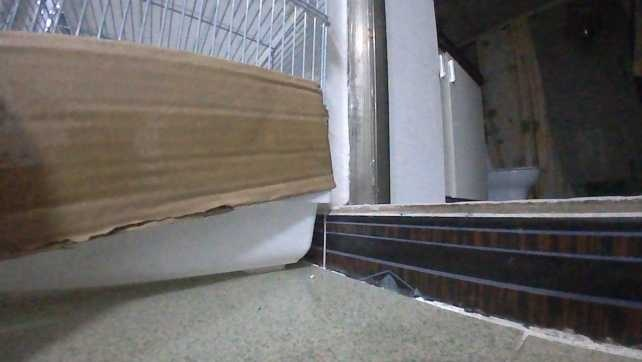door_sill: (325, 205, 642, 355)
toilet: (482, 160, 541, 203)
